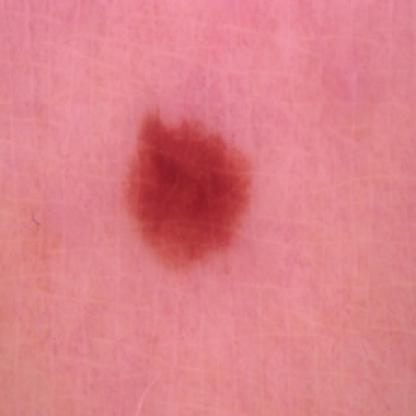benign: (124, 100, 260, 270)
